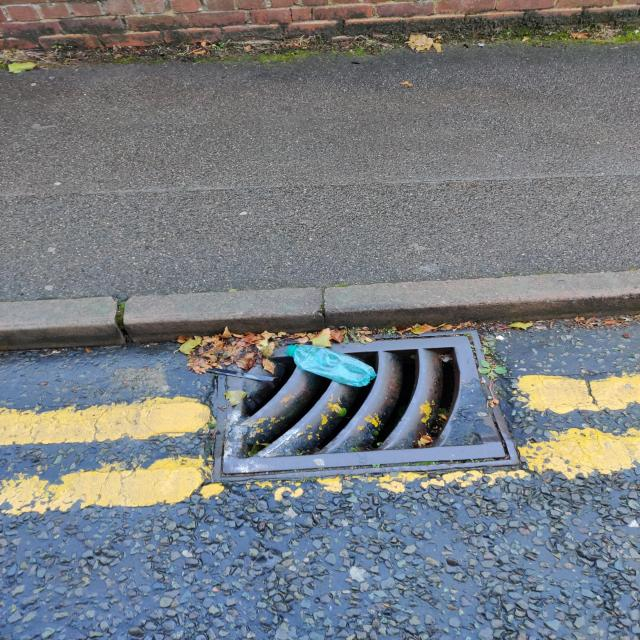litter: (286, 342, 386, 391)
